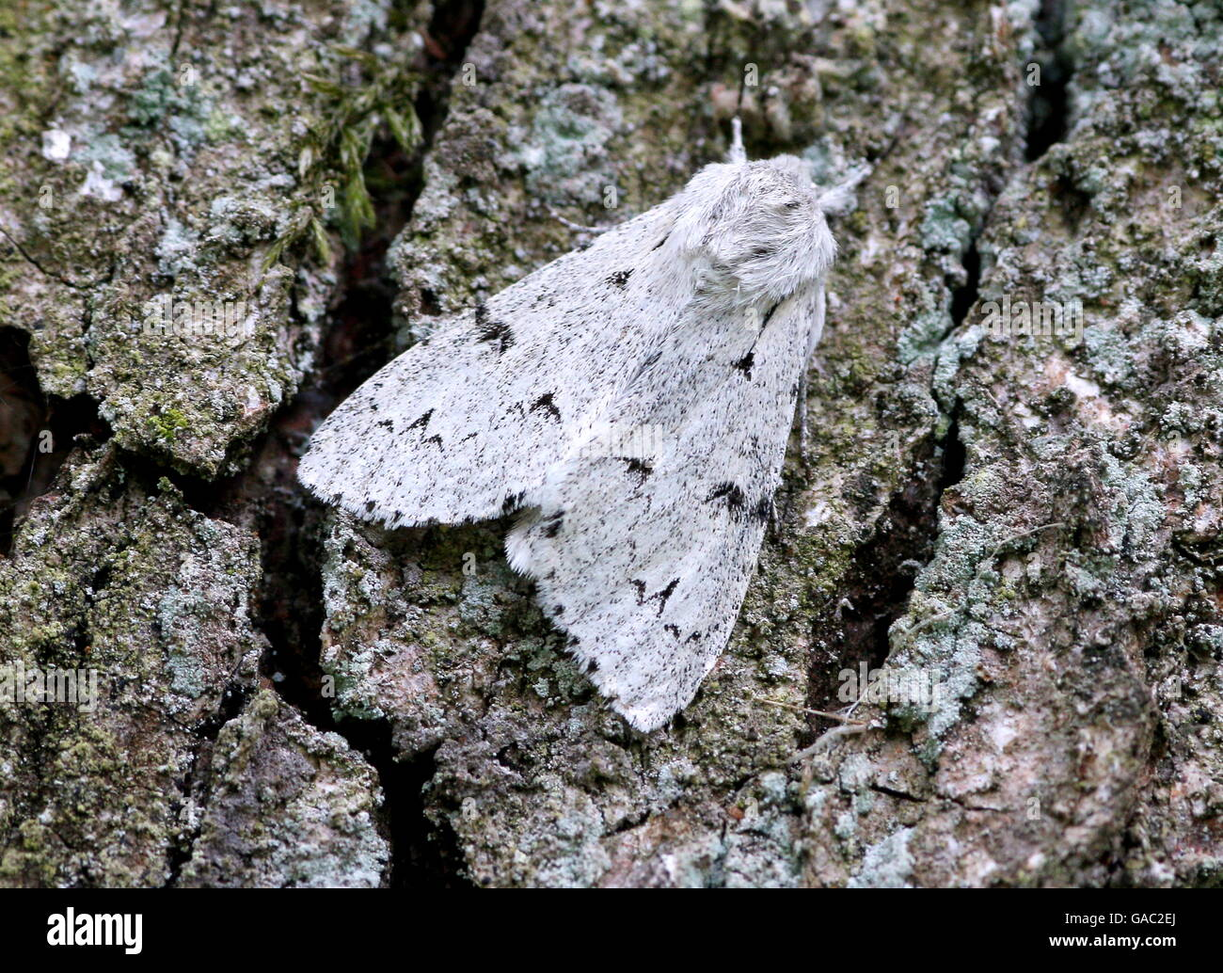Noctuidae: (287, 132, 852, 741)
